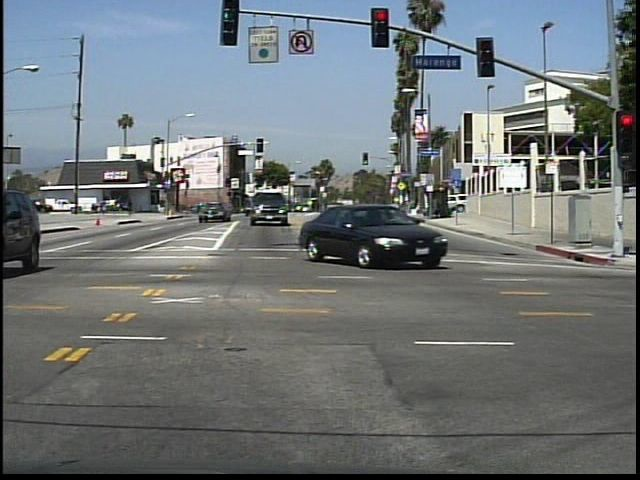person: (127, 195, 138, 219)
